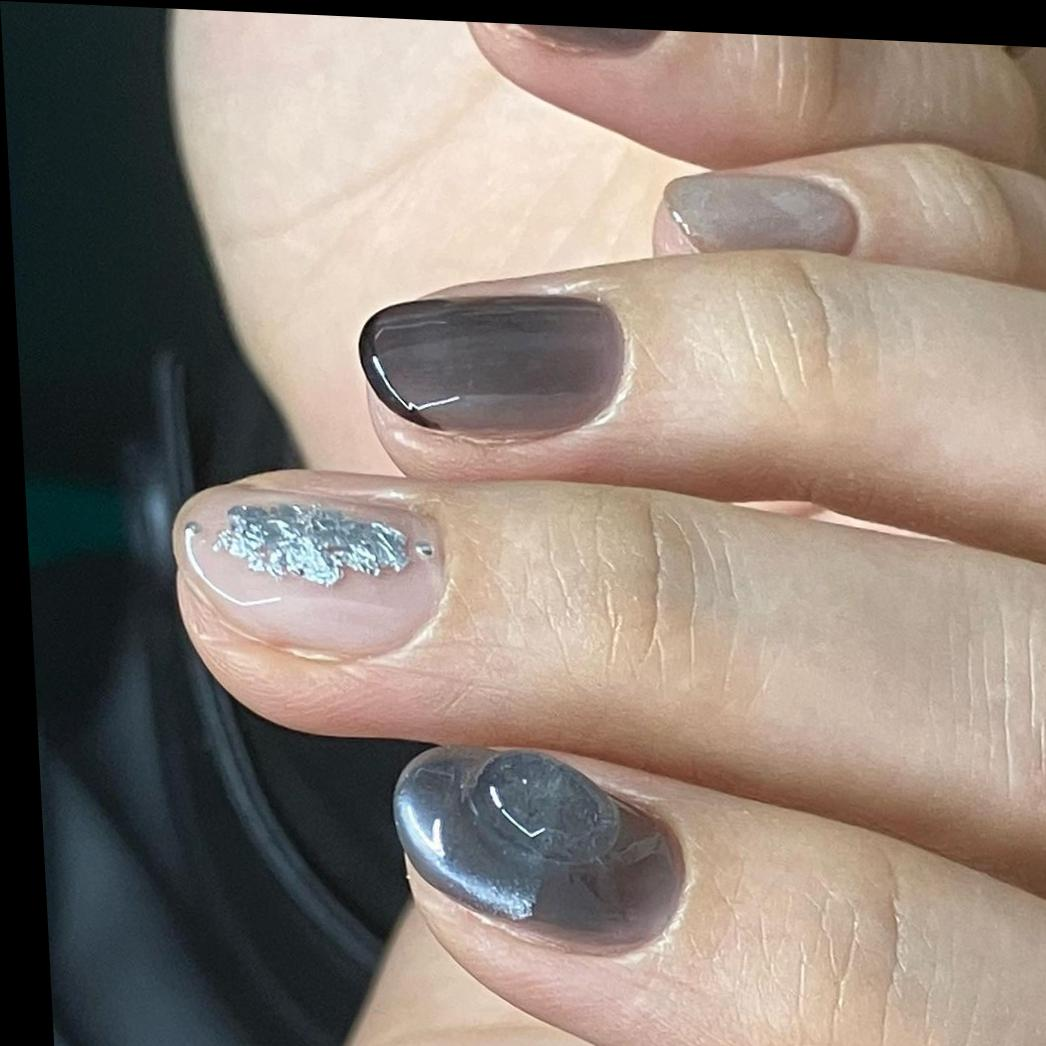nail: (386, 739, 689, 958), (352, 281, 631, 445), (647, 164, 859, 264)
